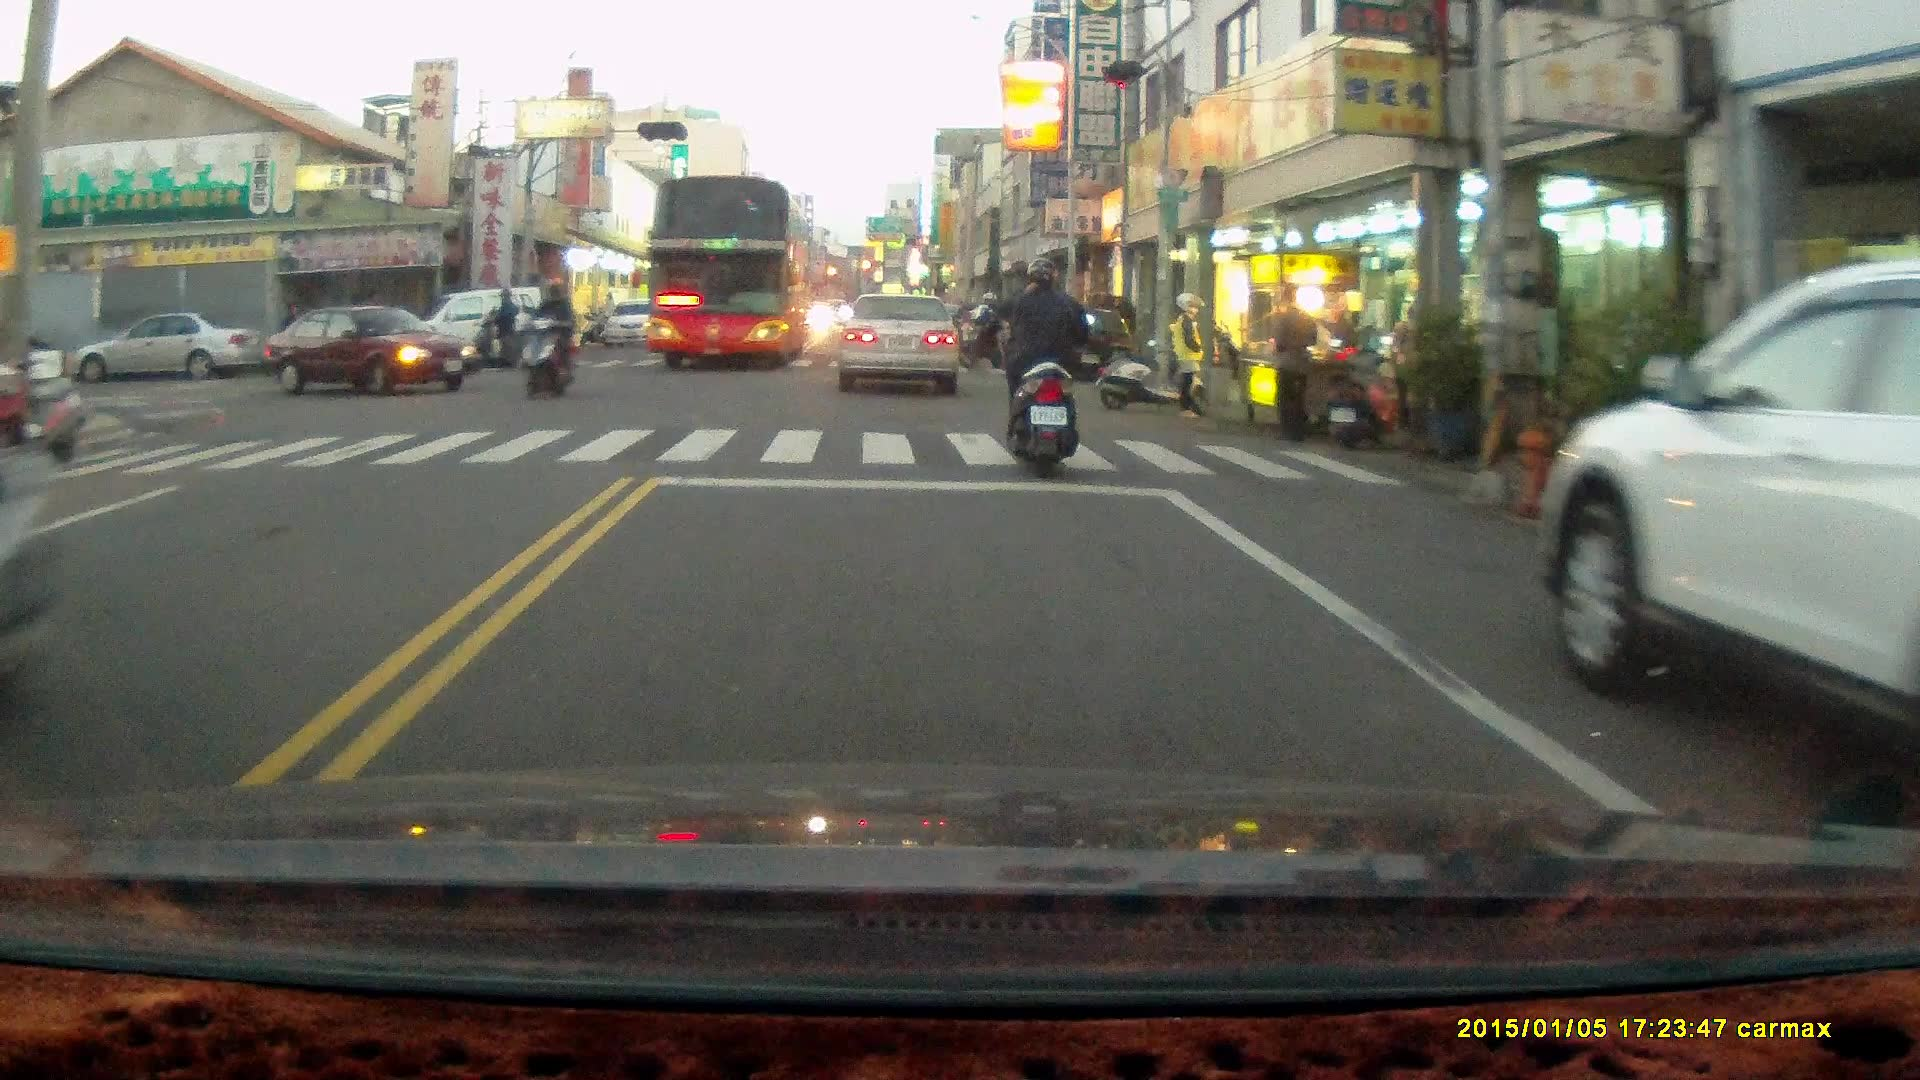pedestrian: (1268, 279, 1316, 440), (1165, 281, 1204, 414)
rider: (992, 246, 1097, 471), (0, 371, 64, 673), (521, 275, 576, 401), (468, 284, 529, 366), (957, 287, 1014, 368)
vehicle: (1530, 263, 1920, 830), (646, 176, 809, 374), (266, 301, 473, 393), (61, 311, 246, 390), (837, 291, 964, 398), (1041, 302, 1139, 379), (605, 298, 670, 348)
